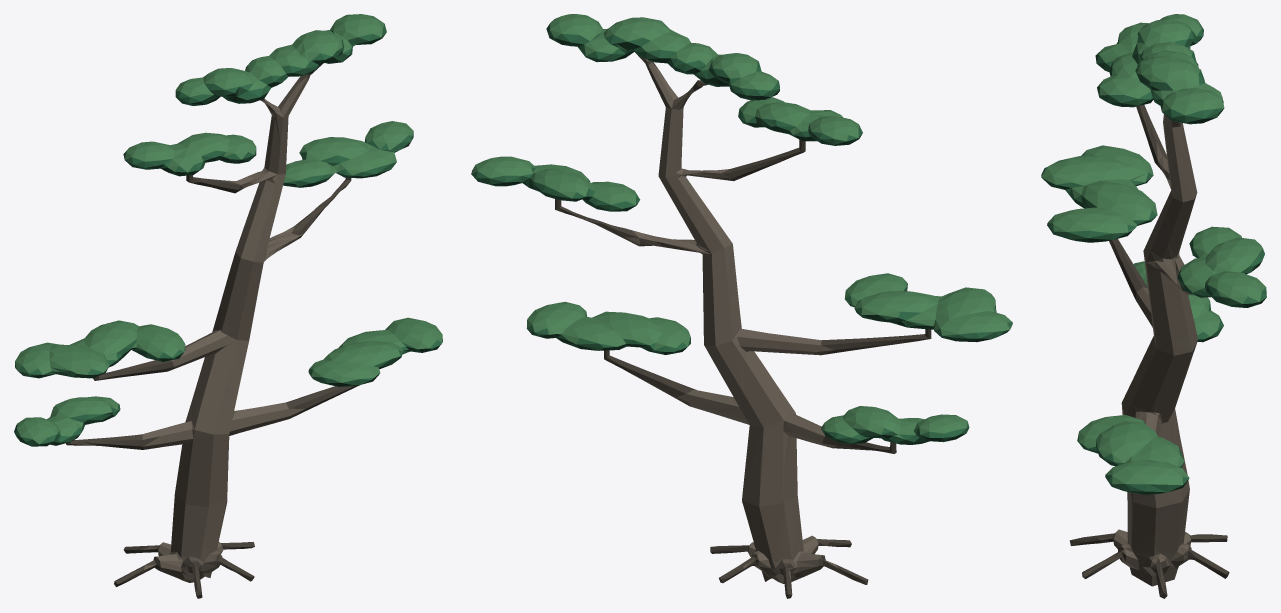
File: ancient-pine-1229-lod0.glb
The picture shows the model from 3 angles, left to right: view 1: azimuth 30°, elevation 25°; view 2: azimuth 150°, elevation 25°; view 3: azimuth 270°, elevation 25°; orthographic projection. The views are drawn at different scales.
Parts seen in each view (by area): view 1: n12.004, n8.004, n11.004, n9.004, n10.004; view 2: n8.004, n12.004, n11.004, n9.004, n10.004; view 3: n12.004, n8.004, n11.004, n9.004, n10.004.
Part boxes in pixels (box(x1,y1,x2,y2)): n12.004: box(15, 14, 442, 444); n8.004: box(142, 73, 311, 582); n11.004: box(14, 24, 442, 446); n9.004: box(66, 63, 359, 598); n10.004: box(15, 33, 441, 446); n8.004: box(625, 59, 837, 583); n12.004: box(471, 14, 1011, 439); n11.004: box(471, 23, 1012, 443); n9.004: box(555, 52, 931, 598); n10.004: box(471, 35, 1009, 444); n12.004: box(1041, 14, 1265, 485); n8.004: box(1097, 114, 1197, 586); n11.004: box(1041, 21, 1266, 492); n9.004: box(1069, 105, 1229, 598); n10.004: box(1042, 32, 1265, 494).
Size of the model in its own units: 5.09 by 5.44 by 1.88.
